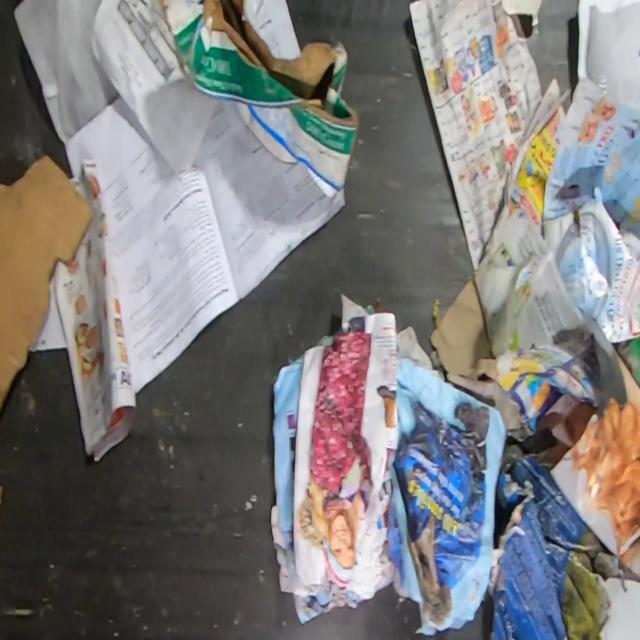cardboard: (158, 0, 359, 202), (487, 447, 640, 639), (0, 151, 99, 419), (428, 274, 499, 384), (616, 243, 640, 477)
